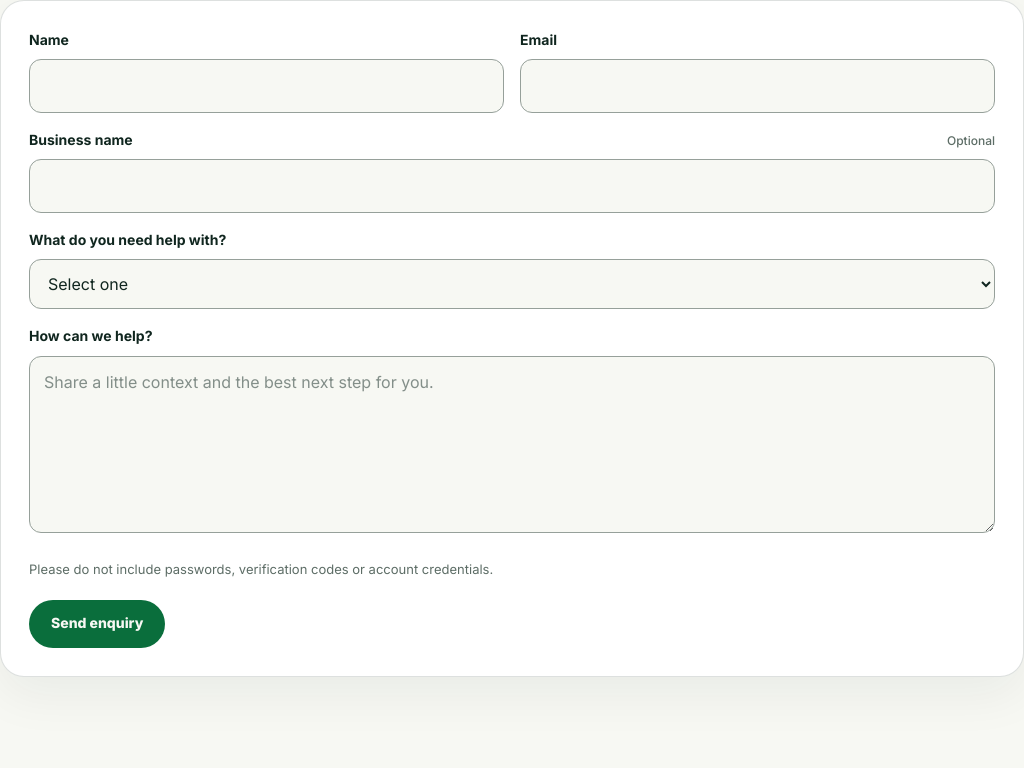
homepage enquiry conversion › sends nothing for a development simulation
In the field labelled "Name": (266, 86) [29,59,504,113], type "Alex Morgan"
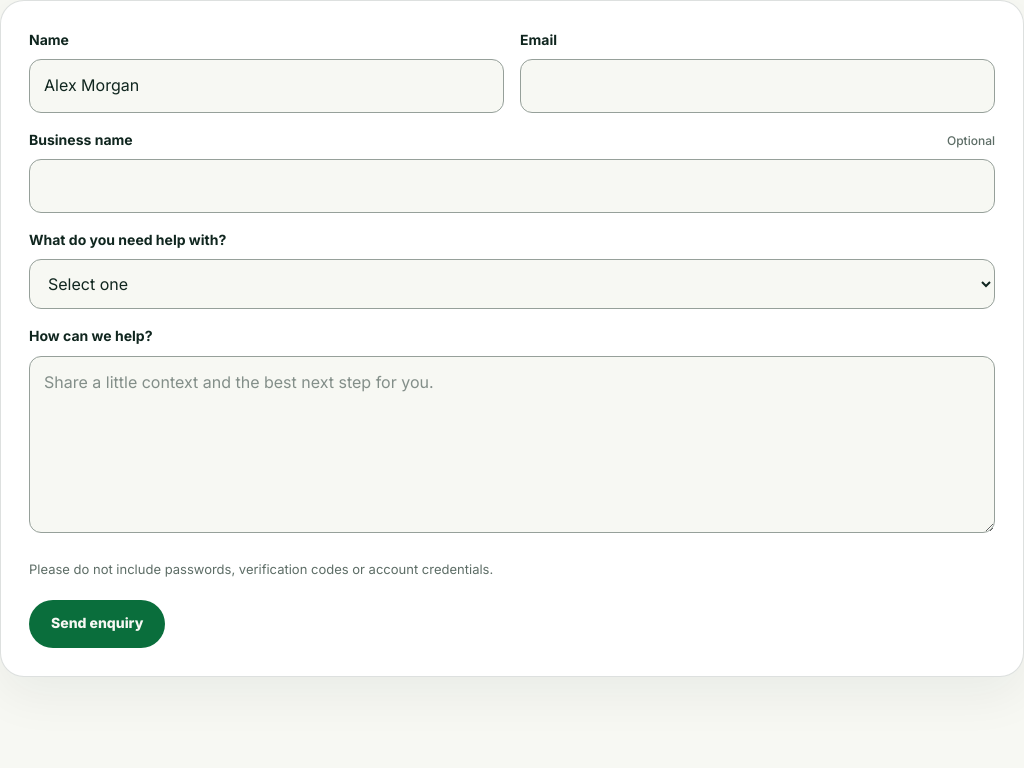
In the field labelled "Email": (758, 86) [520,59,995,113], type "alex@example.com"
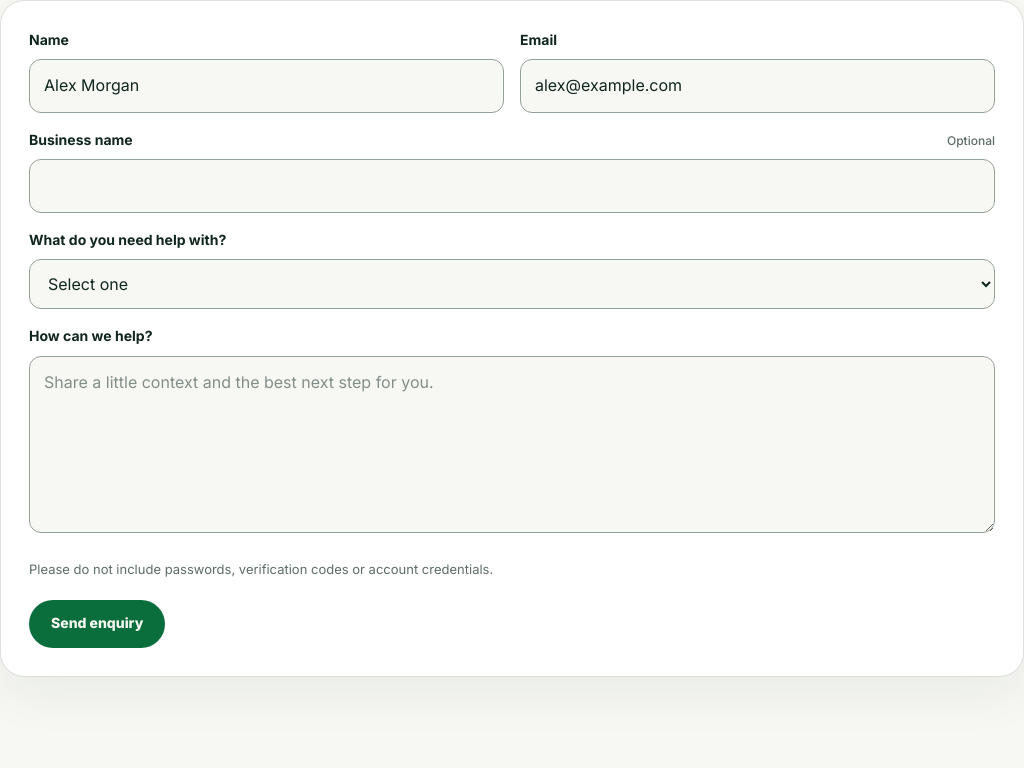
In the field labelled "Business name Optional": (512, 186) [29,159,995,213], type "Harbour Bakery"
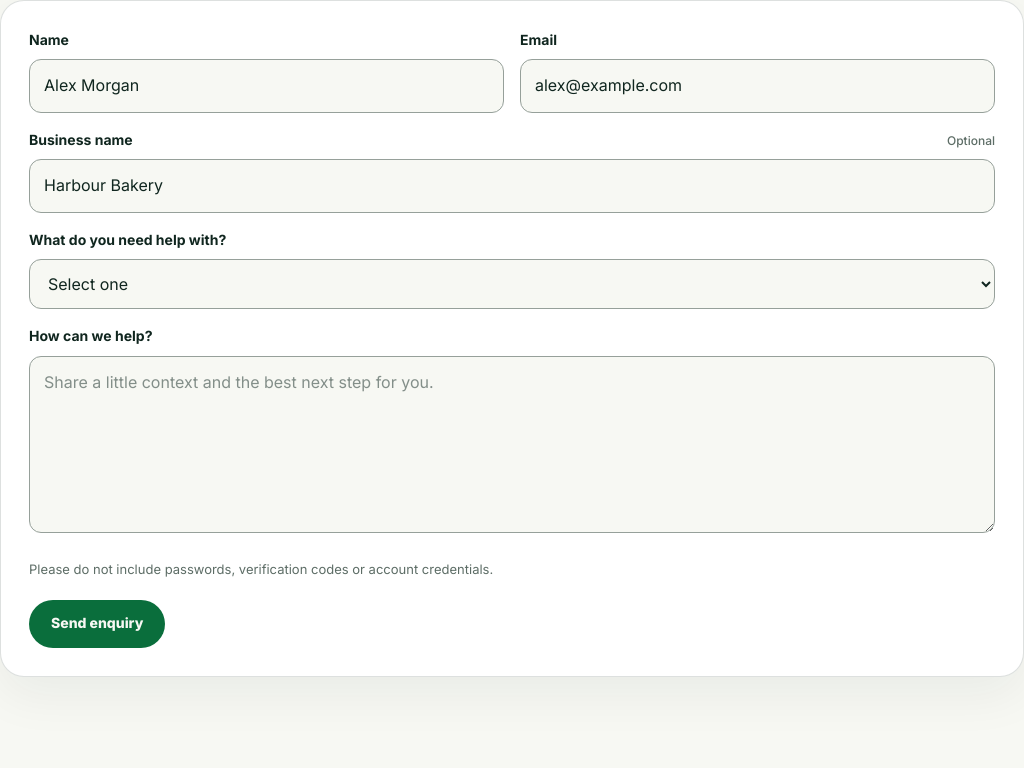
Select "Business Profile recovery" in the dropdown labelled "What do you need help with?": (512, 284) [29,259,995,309]
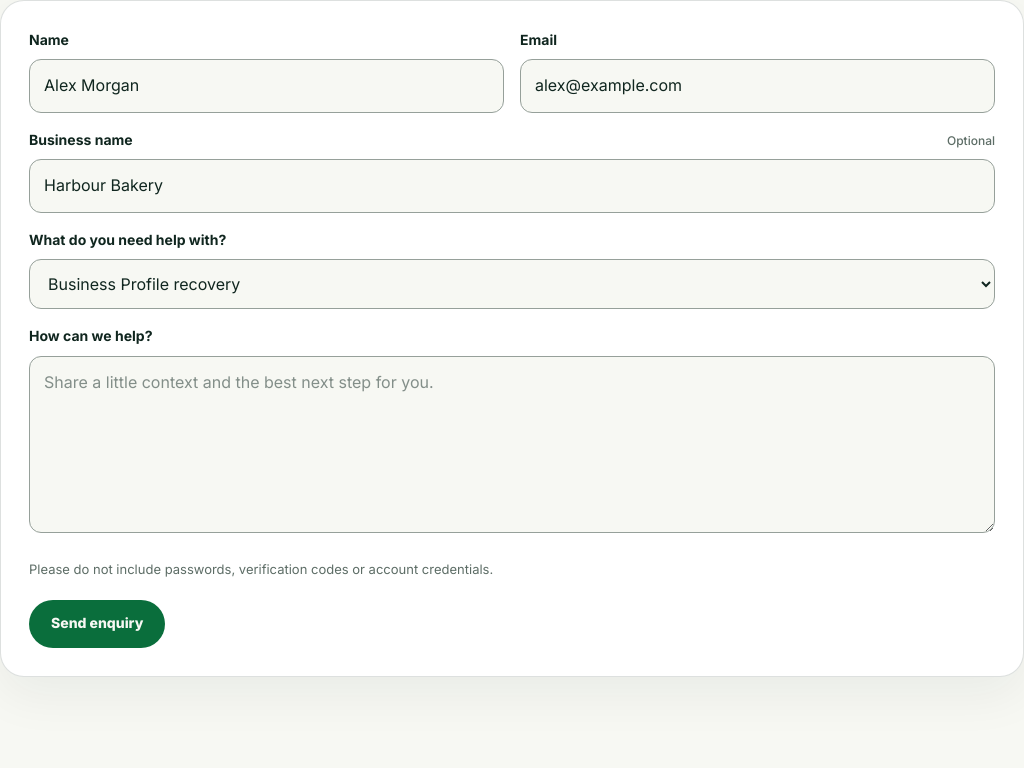
In the text box labelled "How can we help?": (512, 444) [29,356,995,533], type "Our Google Business Profile was suspended last week and we need help appealing."
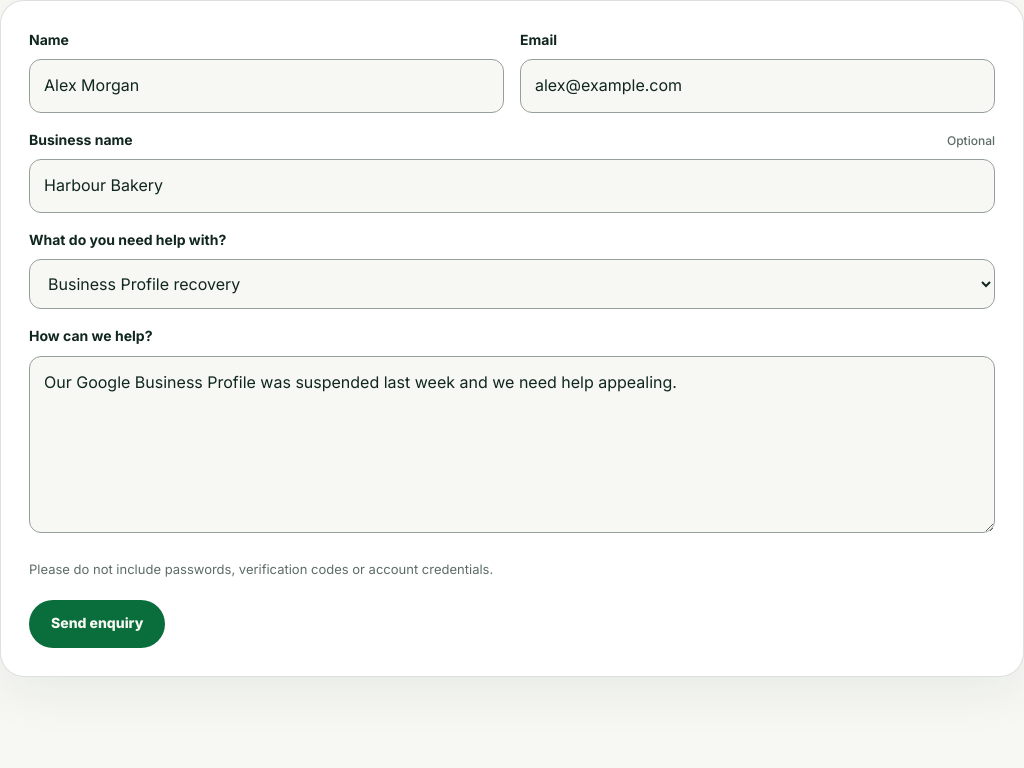
Click the button "Send enquiry": (97, 624) [29,600,165,648]
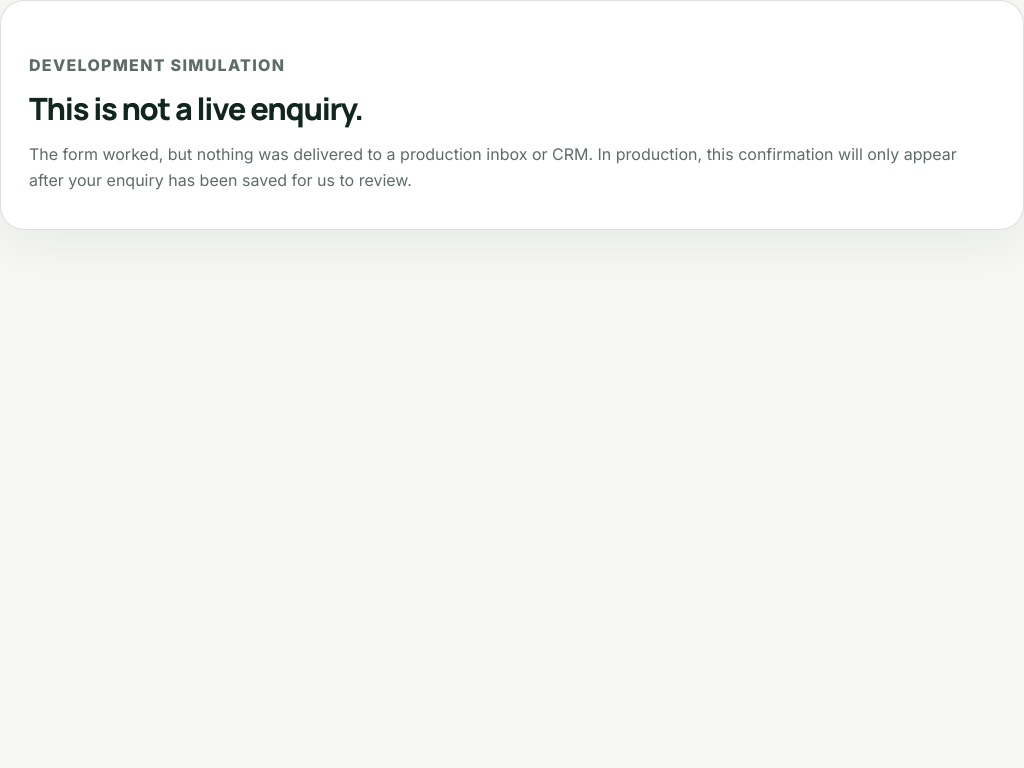
Expected: the heading "This is not a live enquiry." is shown, [29,87,363,129]
